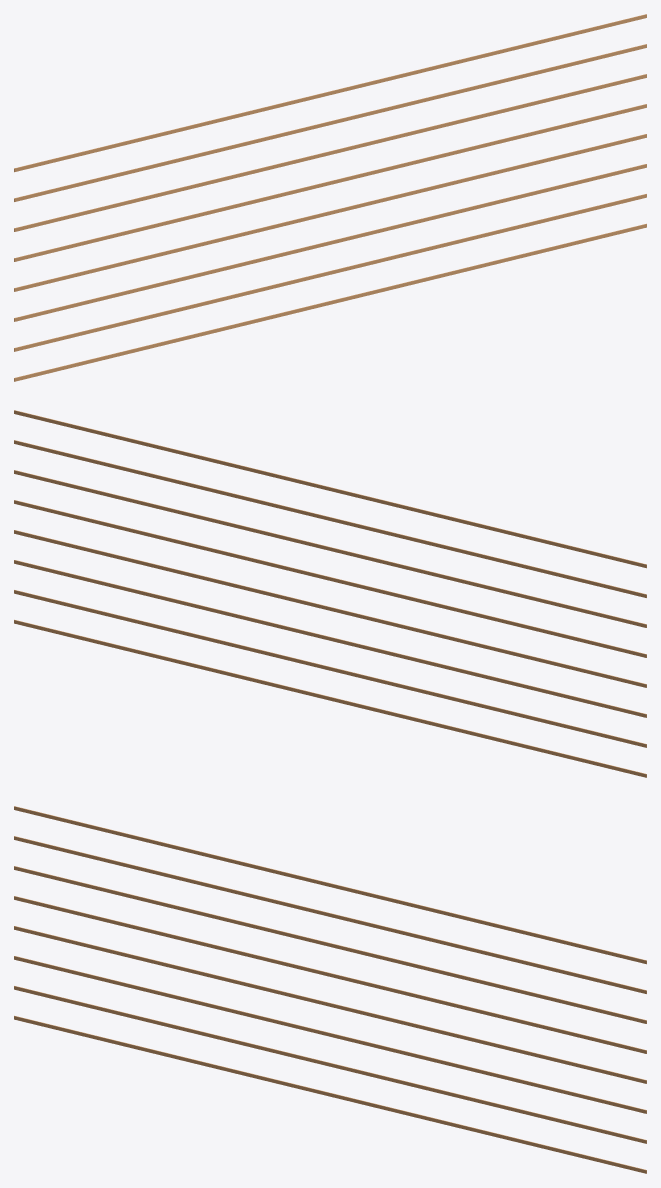
Rendered from 168_L110_PowerPlaneTraceArt.glb.
3 views of the same model, one above another, from view 1: azimuth 30°, elevation 25°; view 2: azimuth 150°, elevation 25°; view 3: azimuth 330°, elevation 25° (orthographic).
Parts seen in each view (by area): view 1: L110_PowerPlaneTraceArt_COPPER; view 2: L110_PowerPlaneTraceArt_COPPER; view 3: L110_PowerPlaneTraceArt_COPPER.
Part boxes in pixels (bbox=[...]): L110_PowerPlaneTraceArt_COPPER: bbox=[14, 14, 646, 381]; L110_PowerPlaneTraceArt_COPPER: bbox=[14, 410, 646, 777]; L110_PowerPlaneTraceArt_COPPER: bbox=[14, 806, 646, 1173].
Size of the model in its own units: 42 by 13.52 by 0.055.
